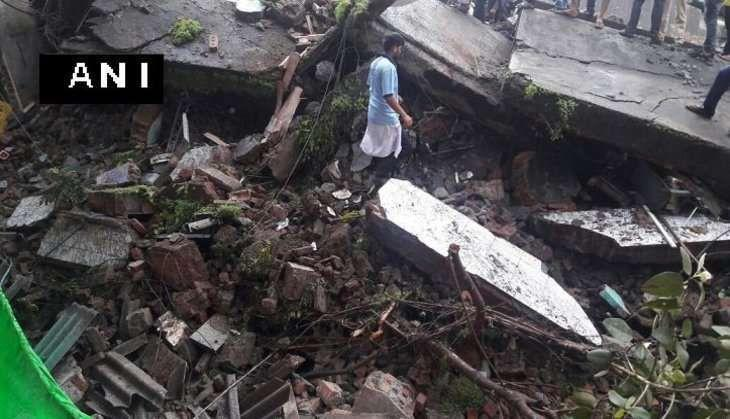victim: (357, 30, 420, 187)
